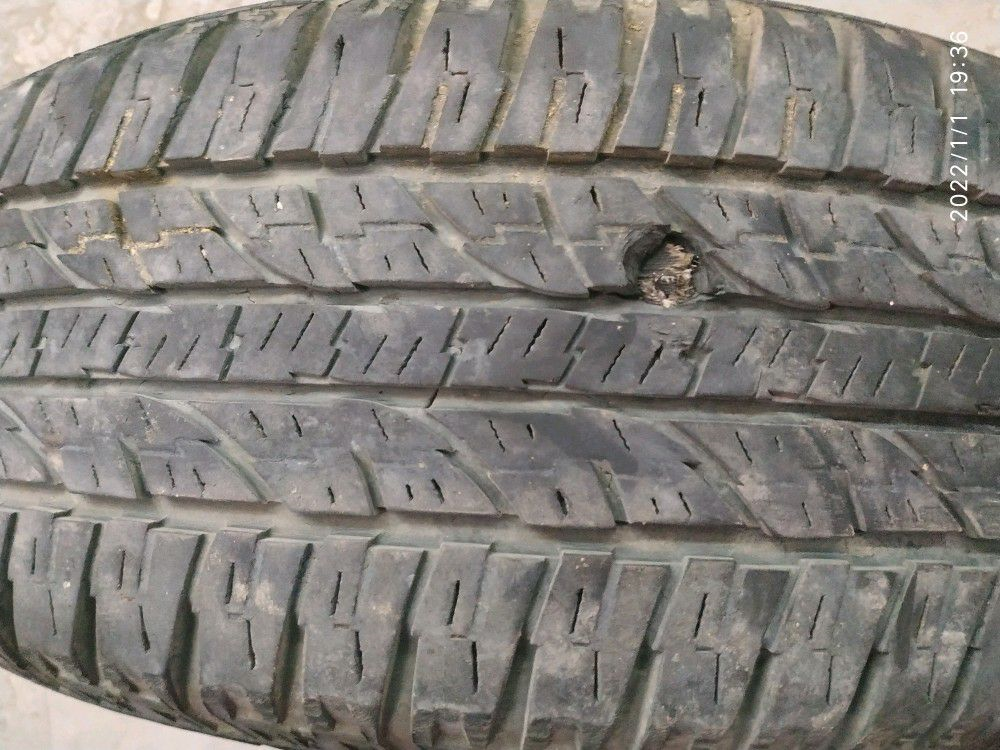tr: (618, 222, 716, 314)
